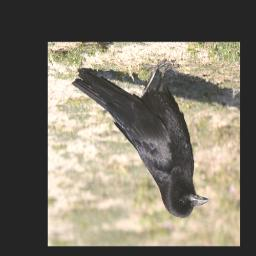Crow: (71, 59, 211, 220)
